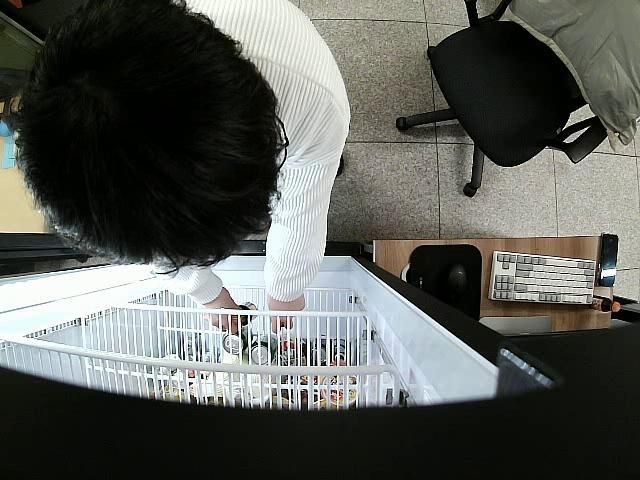17_vita500: (231, 300, 258, 326)
